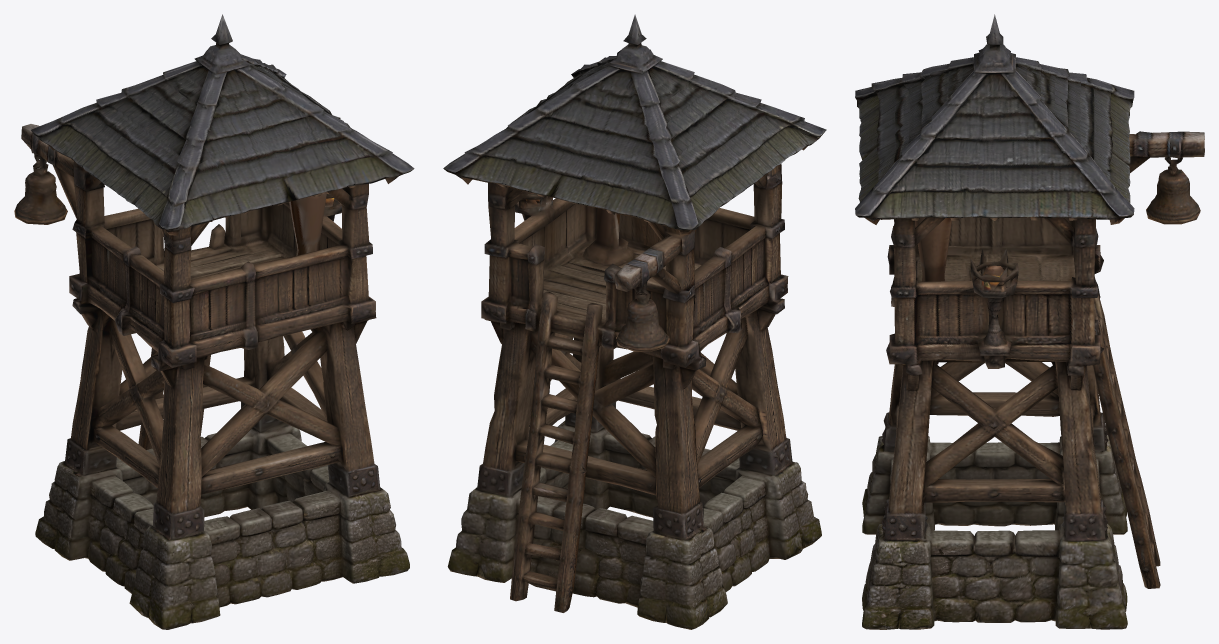
File: watchtower.glb
3 views of the same model, side by side, from view 1: azimuth 30°, elevation 25°; view 2: azimuth 150°, elevation 25°; view 3: azimuth 270°, elevation 25° (orthographic). The views are drawn at different scales.
Parts seen in each view (by area): view 1: tripo_node_206d1e57-d0dc-47b1-be01-44fbe731fce8; view 2: tripo_node_206d1e57-d0dc-47b1-be01-44fbe731fce8; view 3: tripo_node_206d1e57-d0dc-47b1-be01-44fbe731fce8.
Part boxes in pixels (left/top/right/bottom): tripo_node_206d1e57-d0dc-47b1-be01-44fbe731fce8: left=14, top=14, right=414, bottom=629; tripo_node_206d1e57-d0dc-47b1-be01-44fbe731fce8: left=443, top=14, right=826, bottom=629; tripo_node_206d1e57-d0dc-47b1-be01-44fbe731fce8: left=855, top=14, right=1204, bottom=629.
Bounding box in the file's own units: 0.4735 × 0.9832 × 0.5626.
Materials: 1 (1 with a texture image).
